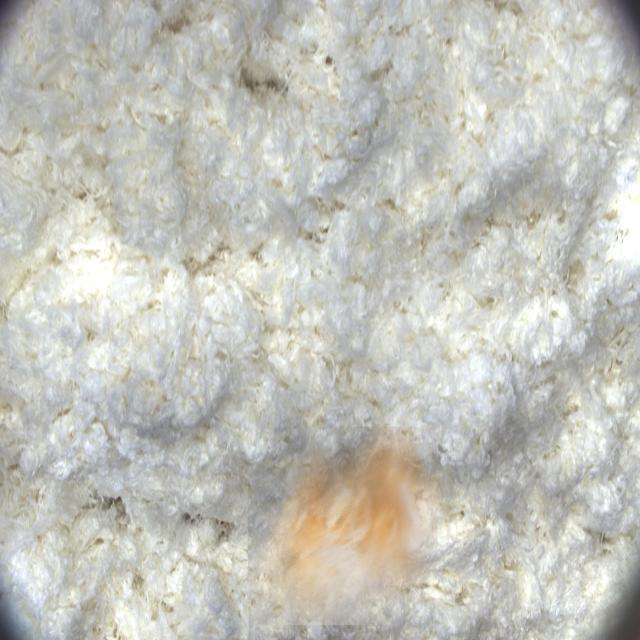dust: (248, 427, 438, 625)
